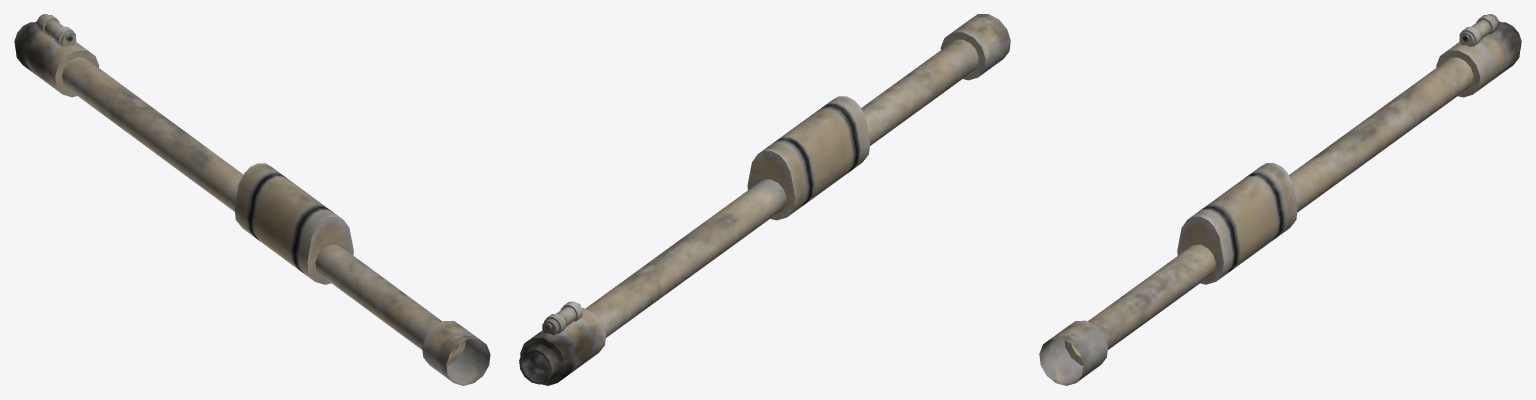
Rendered from Tank_Barrel.obj.
3 renders of one model, left to right at view 1: azimuth 30°, elevation 25°; view 2: azimuth 150°, elevation 25°; view 3: azimuth 330°, elevation 25°, orthographic. The views are drawn at different scales.
Visible parts, largest first — view 1: Abrams_Tower.003; view 2: Abrams_Tower.003; view 3: Abrams_Tower.003.
Part boxes in pixels (x1,y1,x2,y2): Abrams_Tower.003: [14, 14, 490, 385]; Abrams_Tower.003: [519, 14, 1010, 385]; Abrams_Tower.003: [1039, 14, 1521, 385].
Size of the model in its own units: 0.3295 by 0.4442 by 5.32.
